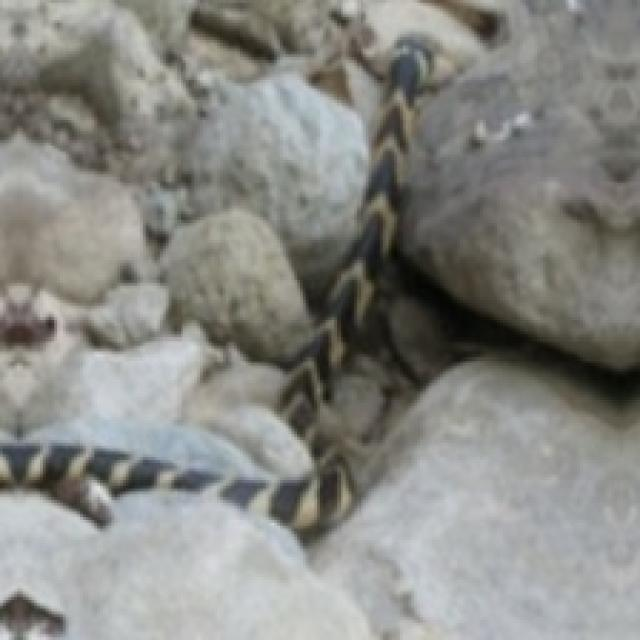king cobra: (0, 31, 449, 534), (174, 86, 377, 286)
